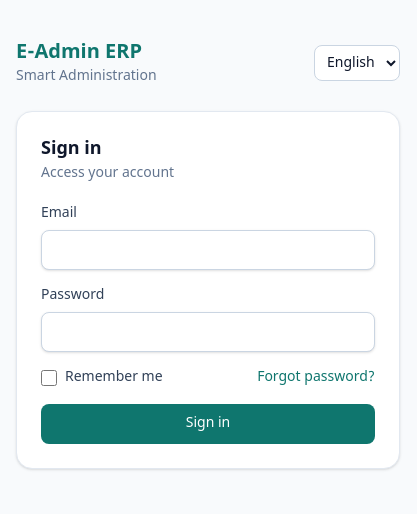
Test case: login flow › shows the server message when credentials are rejected
The image size is (417, 514).
Step 1. Type "admin@example.com" into the field labelled "Email" → (208, 250), box top-left (41, 230), bottom-right (375, 270)
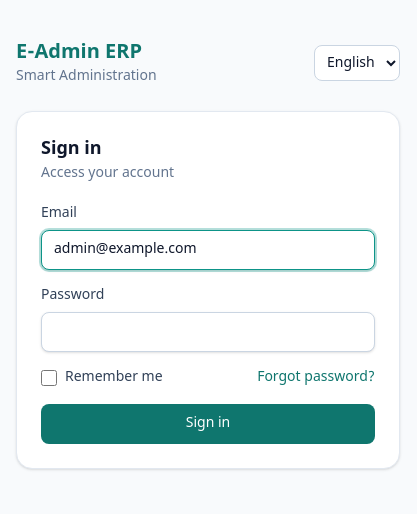
Step 2. Type "wrong" into the password field labelled "Password" → (208, 332), box top-left (41, 312), bottom-right (375, 352)
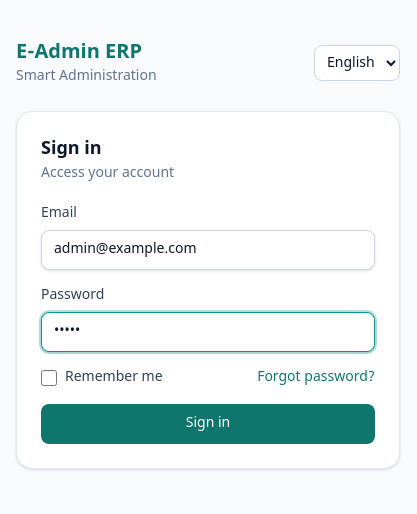
Step 3. Click the button "Sign in" → (208, 424), box top-left (41, 404), bottom-right (375, 444)
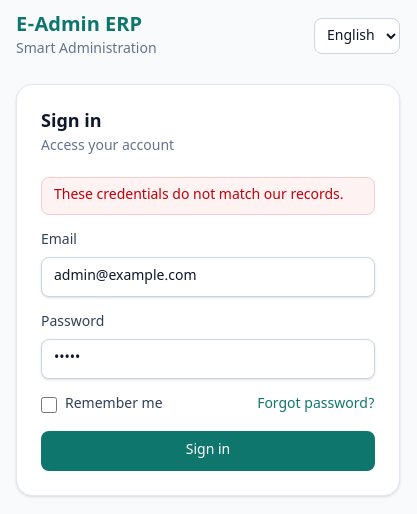
Expected: the message reads "These credentials do not match our records.", top-left (54, 186), bottom-right (344, 205)
